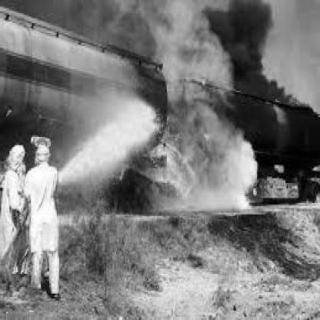Fire: (137, 120, 240, 199), (265, 88, 303, 104), (307, 158, 319, 188)
Smoke: (216, 0, 274, 93)
